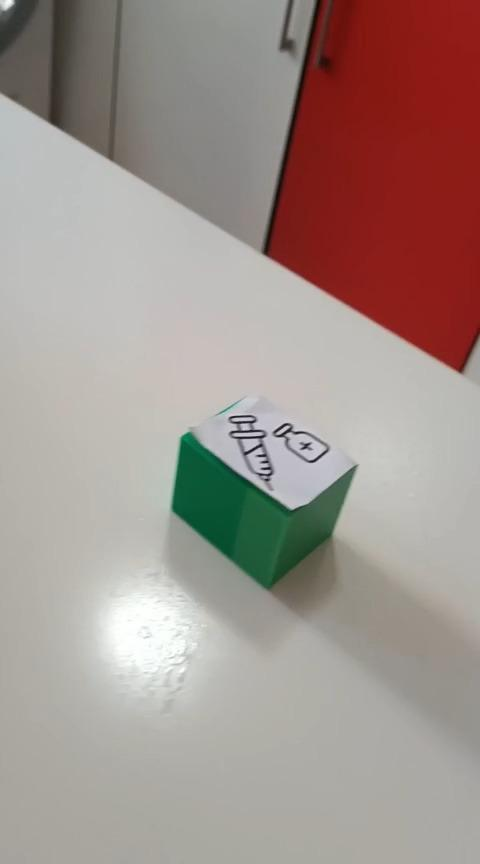antiseptic cream: (169, 391, 359, 590)
